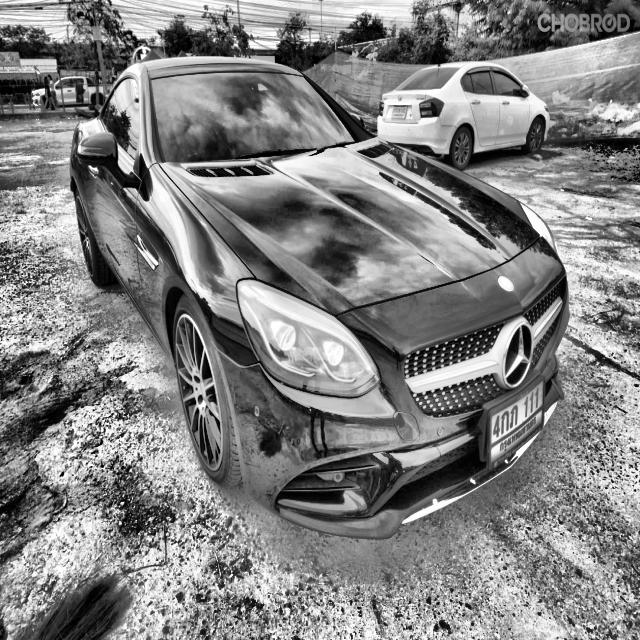license-plate: (473, 374, 552, 476)
